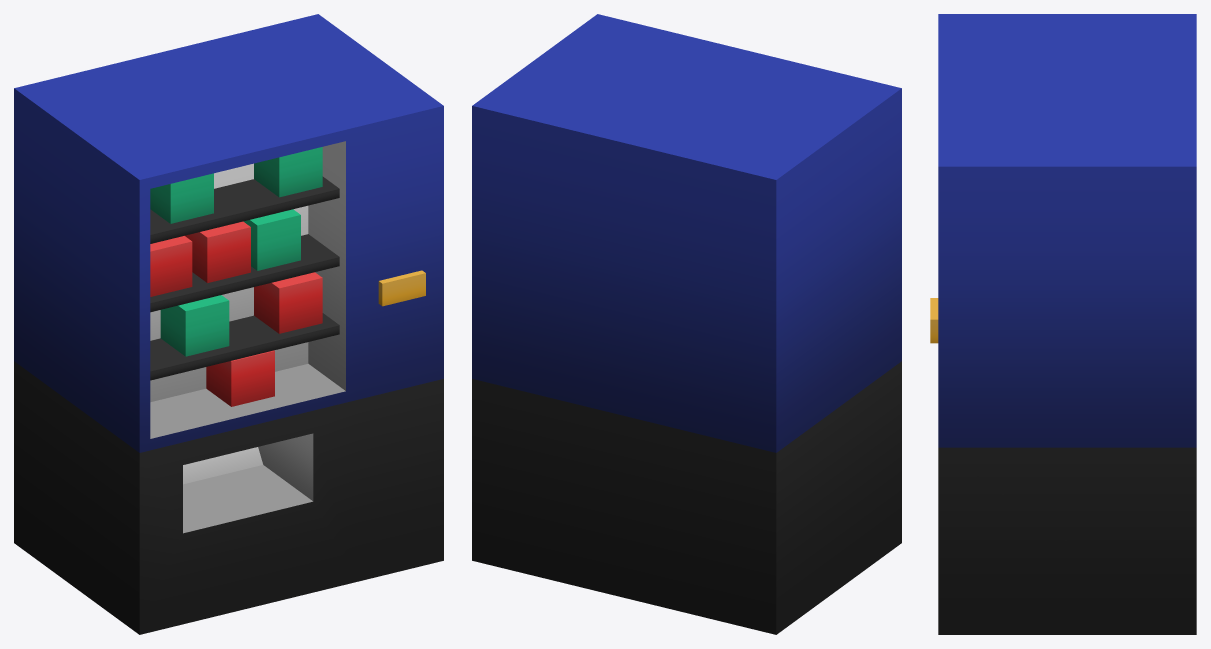
The model's file is Vending Machine.fbx.
3 views of the same model, side by side, from view 1: azimuth 30°, elevation 25°; view 2: azimuth 150°, elevation 25°; view 3: azimuth 270°, elevation 25° (orthographic). The views are drawn at different scales.
Parts seen in each view (by area): view 1: Vending Machine, Vending Button; view 2: Vending Machine; view 3: Vending Machine, Vending Button.
Boxes of the visible parts, <box> form: Vending Machine: <box>14,14,443,634</box>; Vending Button: <box>378,270,425,306</box>; Vending Machine: <box>472,14,901,634</box>; Vending Machine: <box>938,14,1196,634</box>; Vending Button: <box>930,298,938,343</box>.
Size of the model in its own units: 1.4 by 2 by 1.03.
